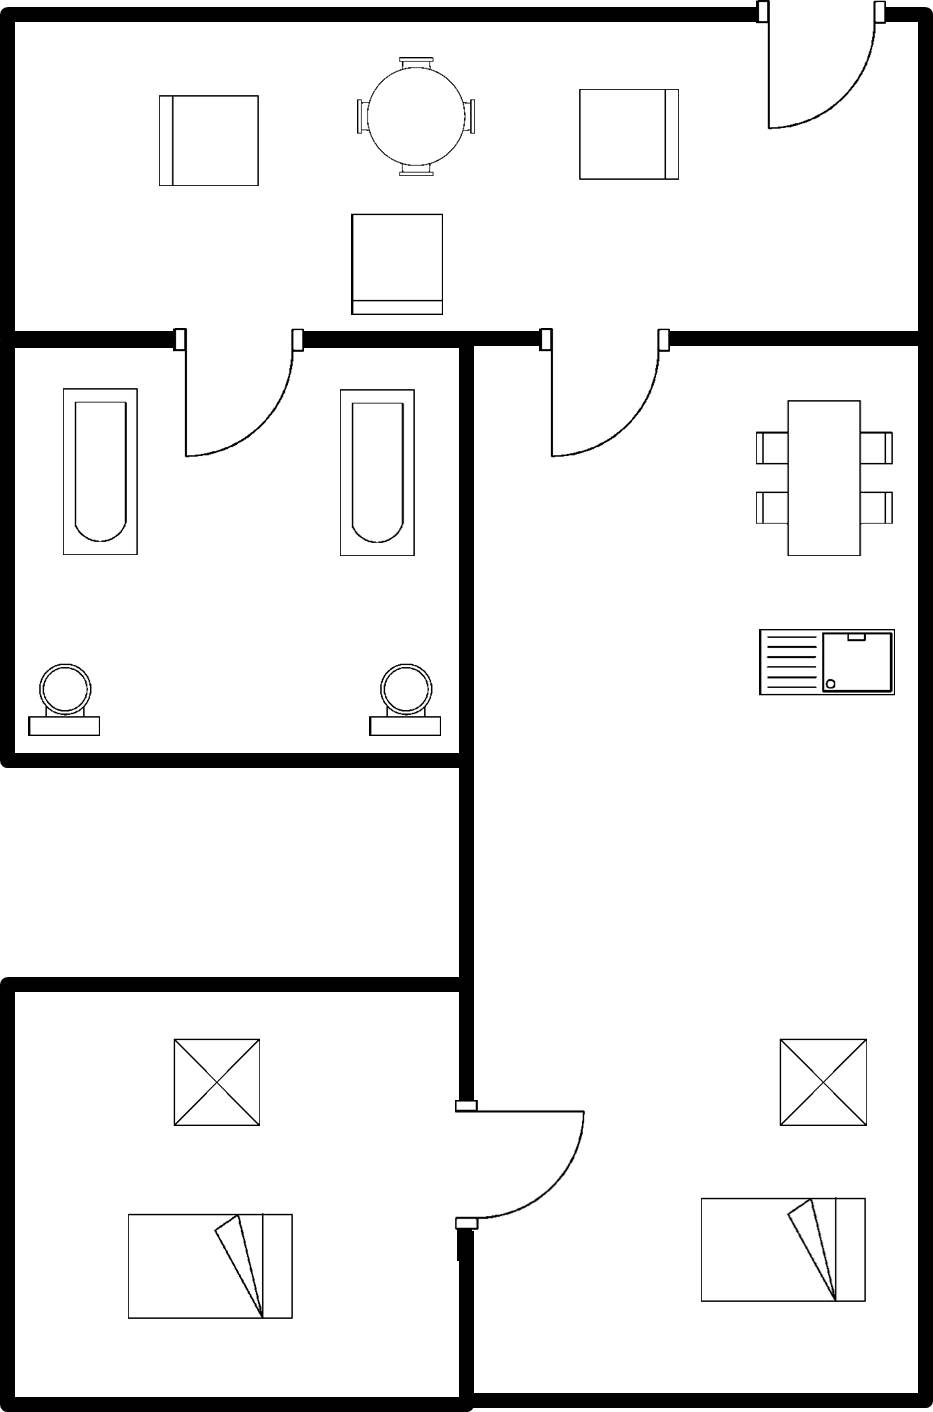bed: (117, 1204, 301, 1331), (691, 1188, 877, 1314)
coffee_table: (768, 1026, 880, 1137), (165, 1031, 271, 1136)
dining_table: (742, 395, 901, 569)
large_sink: (357, 658, 447, 746), (20, 661, 109, 747)
round_table: (346, 50, 488, 185)
sink: (747, 620, 902, 706)
small_sofa: (338, 200, 453, 325), (568, 78, 690, 194), (149, 84, 268, 198)
tub: (325, 377, 430, 569), (54, 380, 147, 565)
